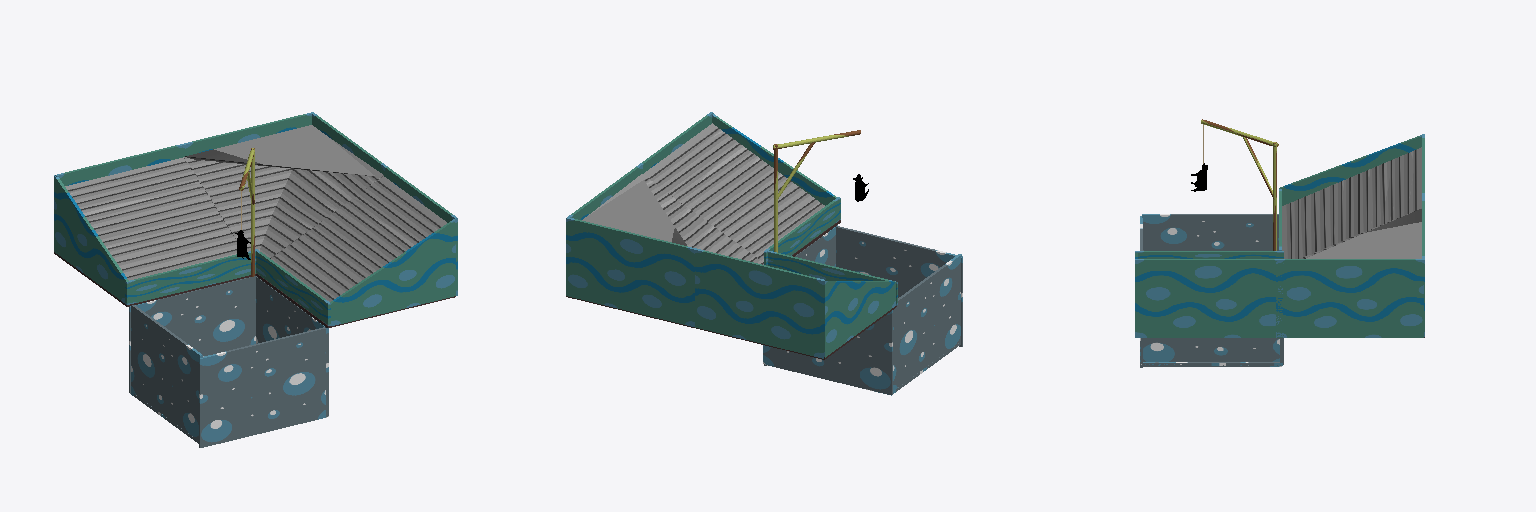
3 renders of one model, left to right at view 1: azimuth 30°, elevation 25°; view 2: azimuth 150°, elevation 25°; view 3: azimuth 270°, elevation 25°, orthographic.
Parts seen in each view (by area): view 1: pasted__pasted__pCube1 pasted__group1 group7, pasted__pasted__pasted__pasted__pCube1 pasted__pasted__pasted__g, pasted__pasted__pCube1 pasted__group1 group19, pasted__pasted__pCube1 pasted__group2 group4, pasted__pasted__pasted__pasted__pasted__pasted__pasted__pasted__, pasted__pasted__pasted__pCube1 pasted__pasted__group2 pasted__gr, pasted__pCube1 group2, pasted__pasted__pasted__pasted__pasted__pasted__pasted__pCube1 p, pasted__pasted__pCube1 pasted__group2 group5, pasted__pasted__pasted__pasted__pasted__pasted__pCube1 pasted__p, pasted__pasted__pasted__pCube1 pasted__pasted__group1 pasted__gr, pasted__pasted__pasted__pasted__pasted__pCube1 pasted__pasted__p; view 2: pasted__pasted__pasted__pasted__pCube1 pasted__pasted__pasted__g, pasted__pasted__pasted__pCube1 pasted__pasted__group1 pasted__gr, pasted__pasted__pasted__pCube1 pasted__pasted__group2 pasted__gr, pasted__pasted__pCube1 pasted__group1 group7, pasted__pCube1 group2, pasted__pasted__pCube1 pasted__group2 group4, pasted__pasted__pasted__pasted__pasted__pasted__pasted__pCube1 p, pasted__pasted__pasted__pasted__pasted__pasted__pasted__pasted__, pasted__pasted__pasted__pasted__pasted__pasted__pCube1 pasted__p, pasted__pasted__pasted__pasted__pasted__pCube1 pasted__pasted__p, pasted__pasted__pCube1 pasted__group2 group5; view 3: pasted__pasted__pasted__pasted__pCube1 pasted__pasted__pasted__g, pasted__pasted__pasted__pasted__pasted__pCube1 pasted__pasted__p, pasted__pasted__pCube1 pasted__group1 group19, pasted__pasted__pasted__pCube1 pasted__pasted__group2 pasted__gr, pasted__pasted__pCube1 pasted__group2 group5, pasted__pasted__pCube1 pasted__group1 group7, pasted__pasted__pasted__pasted__pasted__pasted__pasted__pCube1 p, pasted__pasted__pasted__pasted__pasted__pasted__pCube1 pasted__p, pasted__pasted__pCube1 pasted__group2 group3.
Part boxes in pixels (left/top/right/bottom): pasted__pasted__pCube1 pasted__group1 group7: left=184, top=125, right=383, bottom=258; pasted__pasted__pasted__pasted__pCube1 pasted__pasted__pasted__g: left=55, top=112, right=446, bottom=301; pasted__pasted__pCube1 pasted__group1 group19: left=65, top=157, right=236, bottom=280; pasted__pasted__pCube1 pasted__group2 group4: left=199, top=327, right=328, bottom=447; pasted__pasted__pasted__pasted__pasted__pasted__pasted__pasted__: left=125, top=219, right=455, bottom=325; pasted__pasted__pasted__pCube1 pasted__pasted__group2 pasted__gr: left=131, top=305, right=202, bottom=440; pasted__pCube1 group2: left=129, top=276, right=255, bottom=393; pasted__pasted__pasted__pasted__pasted__pasted__pasted__pCube1 p: left=54, top=175, right=128, bottom=302; pasted__pasted__pCube1 pasted__group2 group5: left=256, top=276, right=328, bottom=416; pasted__pasted__pasted__pasted__pasted__pasted__pCube1 pasted__p: left=255, top=249, right=330, bottom=325; pasted__pasted__pasted__pCube1 pasted__pasted__group1 pasted__gr: left=184, top=112, right=312, bottom=155; pasted__pasted__pasted__pasted__pasted__pCube1 pasted__pasted__p: left=381, top=164, right=457, bottom=295; pasted__pasted__pasted__pasted__pCube1 pasted__pasted__pasted__g: left=567, top=123, right=824, bottom=358; pasted__pasted__pasted__pCube1 pasted__pasted__group1 pasted__gr: left=566, top=218, right=696, bottom=327; pasted__pasted__pasted__pCube1 pasted__pasted__group2 pasted__gr: left=893, top=254, right=961, bottom=390; pasted__pasted__pCube1 pasted__group1 group7: left=582, top=174, right=763, bottom=264; pasted__pCube1 group2: left=763, top=310, right=892, bottom=394; pasted__pasted__pCube1 pasted__group2 group4: left=836, top=226, right=962, bottom=346; pasted__pasted__pasted__pasted__pasted__pasted__pasted__pCube1 p: left=824, top=281, right=896, bottom=357; pasted__pasted__pasted__pasted__pasted__pasted__pasted__pasted__: left=712, top=114, right=897, bottom=305; pasted__pasted__pasted__pasted__pasted__pasted__pCube1 pasted__p: left=764, top=197, right=840, bottom=265; pasted__pasted__pasted__pasted__pasted__pCube1 pasted__pasted__p: left=638, top=112, right=713, bottom=173; pasted__pasted__pCube1 pasted__group2 group5: left=764, top=225, right=837, bottom=365; pasted__pasted__pasted__pasted__pCube1 pasted__pasted__pasted__g: left=1276, top=134, right=1424, bottom=337; pasted__pasted__pasted__pasted__pasted__pCube1 pasted__pasted__p: left=1135, top=259, right=1283, bottom=337; pasted__pasted__pCube1 pasted__group1 group19: left=1282, top=147, right=1421, bottom=258; pasted__pasted__pasted__pCube1 pasted__pasted__group2 pasted__gr: left=1142, top=214, right=1278, bottom=250; pasted__pasted__pCube1 pasted__group2 group5: left=1143, top=338, right=1281, bottom=366; pasted__pasted__pCube1 pasted__group1 group7: left=1300, top=208, right=1421, bottom=258; pasted__pasted__pasted__pasted__pasted__pasted__pasted__pCube1 p: left=1279, top=135, right=1421, bottom=205; pasted__pasted__pasted__pasted__pasted__pasted__pCube1 pasted__p: left=1135, top=251, right=1283, bottom=258; pasted__pasted__pCube1 pasted__group2 group3: left=1140, top=362, right=1282, bottom=365.
Size of the model in its own units: 12.27 by 10 by 11.9.
9 materials, 6 textured.